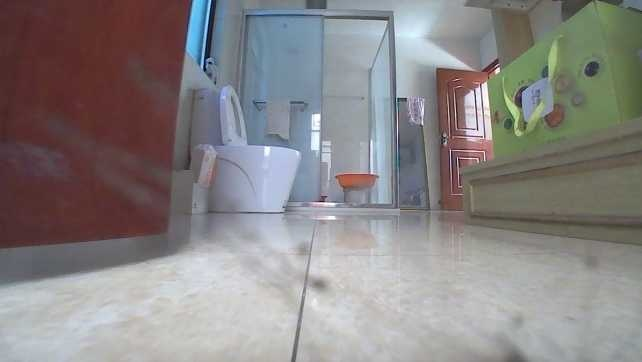door_anno: (432, 65, 501, 214)
door_sill: (310, 199, 398, 219)
toilet: (193, 83, 302, 216)
